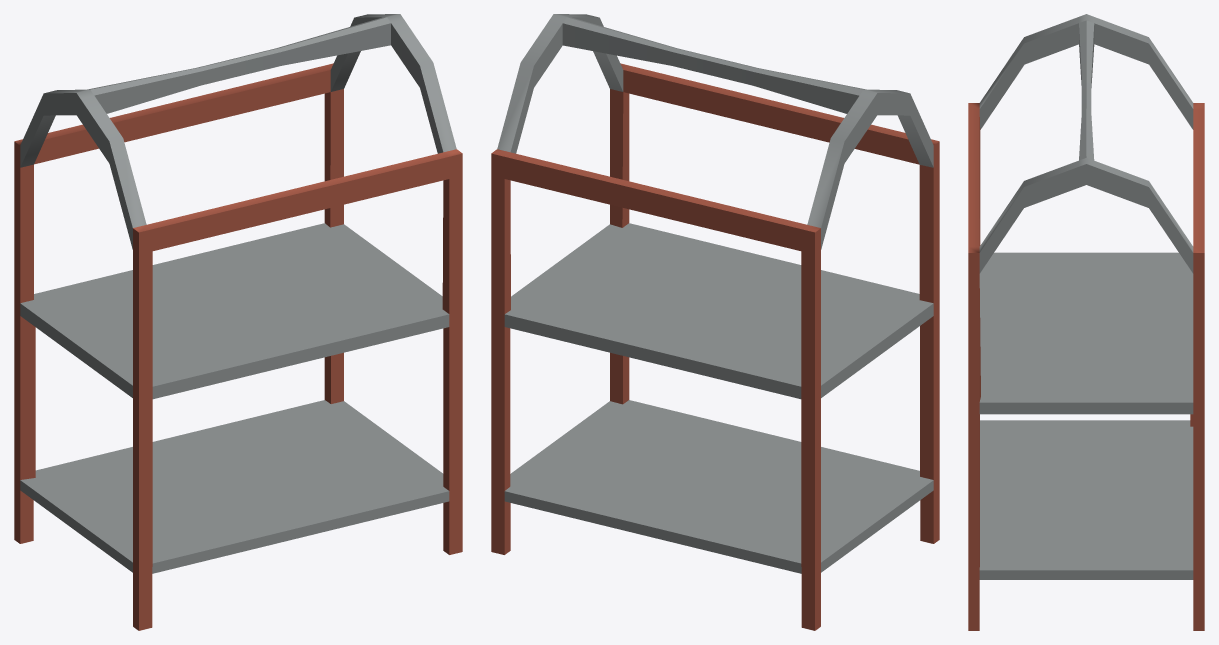
File: TyreShelf.fbx
3 renders of one model, left to right at view 1: azimuth 30°, elevation 25°; view 2: azimuth 150°, elevation 25°; view 3: azimuth 270°, elevation 25°, orthographic. The views are drawn at different scales.
Parts seen in each view (by area): view 1: pCube6; view 2: pCube6; view 3: pCube6.
Part boxes in pixels (x1,y1,x2,y2): pCube6: [14, 14, 462, 630]; pCube6: [491, 14, 939, 630]; pCube6: [968, 14, 1204, 630].
Size of the model in its own units: 89.55 by 130 by 59.68.
